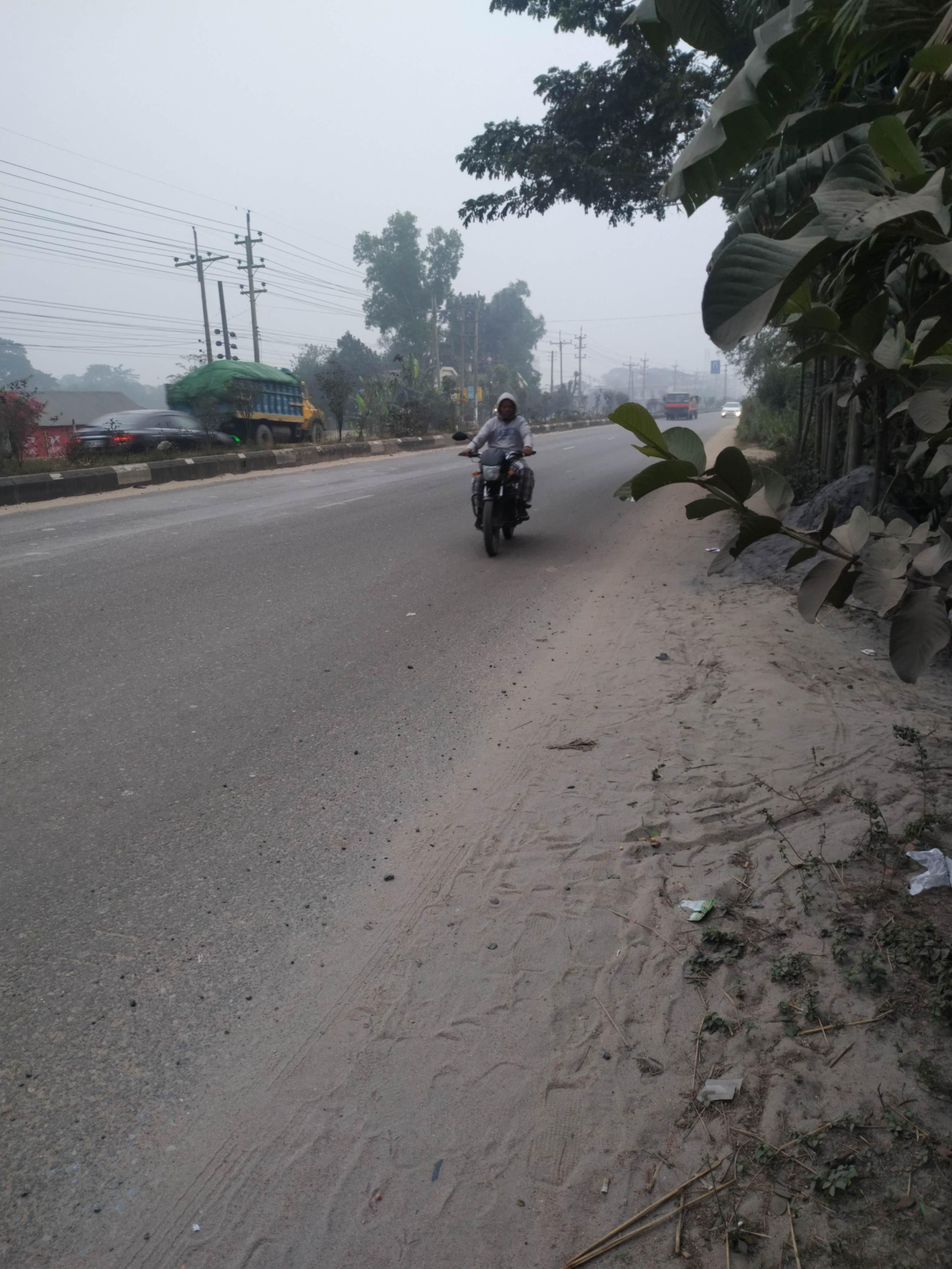Bike: (447, 389, 570, 580)
Car: (63, 390, 247, 473), (715, 394, 759, 437)
Truck: (164, 352, 350, 453), (652, 377, 707, 439)
